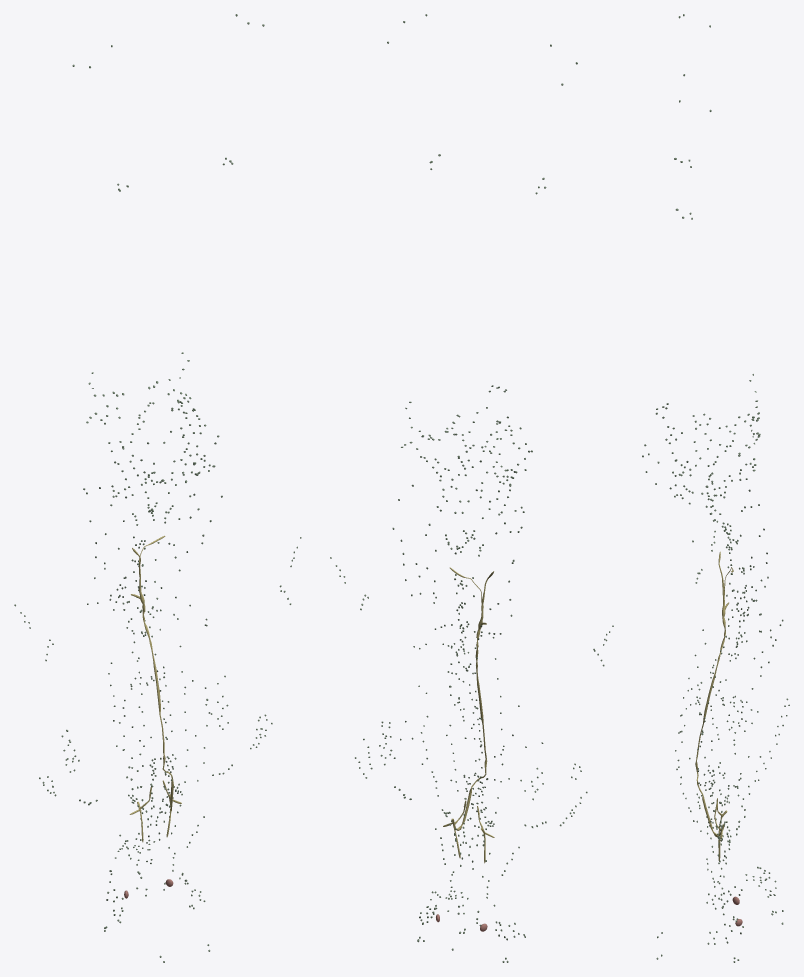
The model's file is lymphatic.glb.
The picture shows the model from 3 angles, left to right: view 1: azimuth 30°, elevation 25°; view 2: azimuth 150°, elevation 25°; view 3: azimuth 270°, elevation 25°; orthographic projection.
Visible parts, largest first — view 1: no part large enough to name; view 2: no part large enough to name; view 3: ZA_Thoracic_duct.
Part boxes in pixels (left/top/right/bottom): ZA_Thoracic_duct: left=695, top=626, right=725, bottom=837.
Bounding box in the file's own units: 393 × 1204 × 178.
